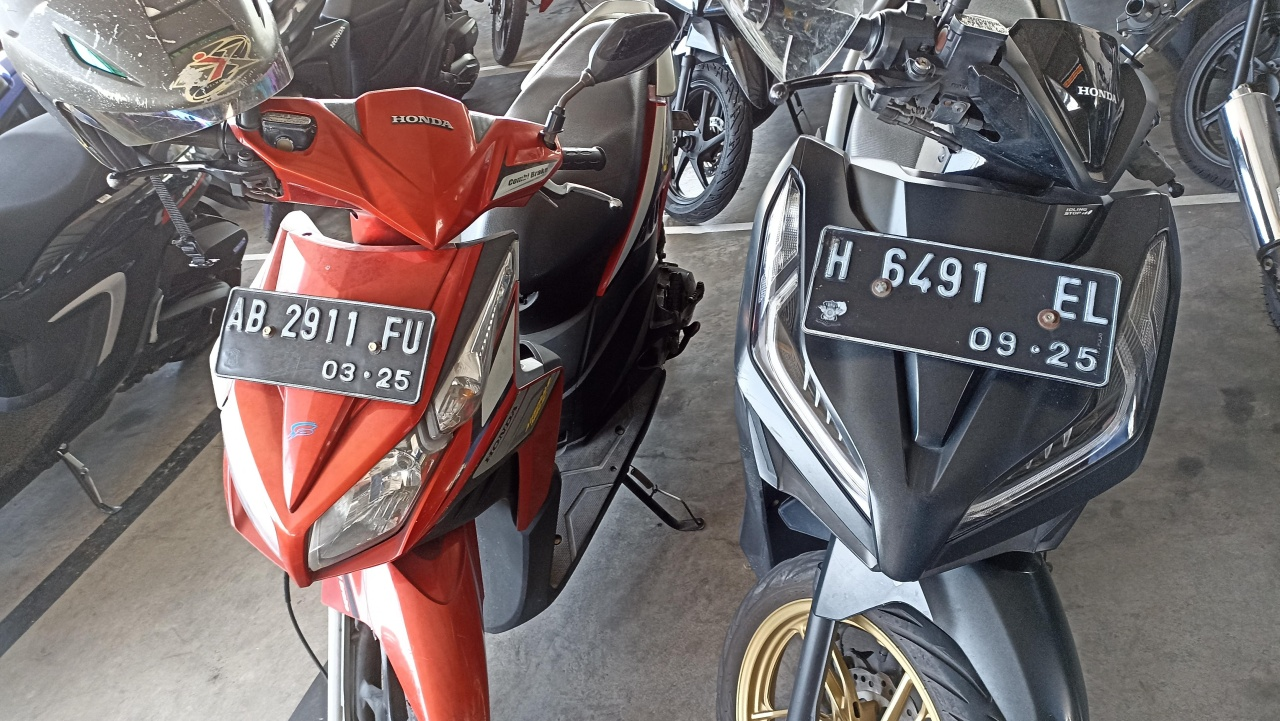plate: (801, 227, 1121, 388), (214, 287, 436, 405)
